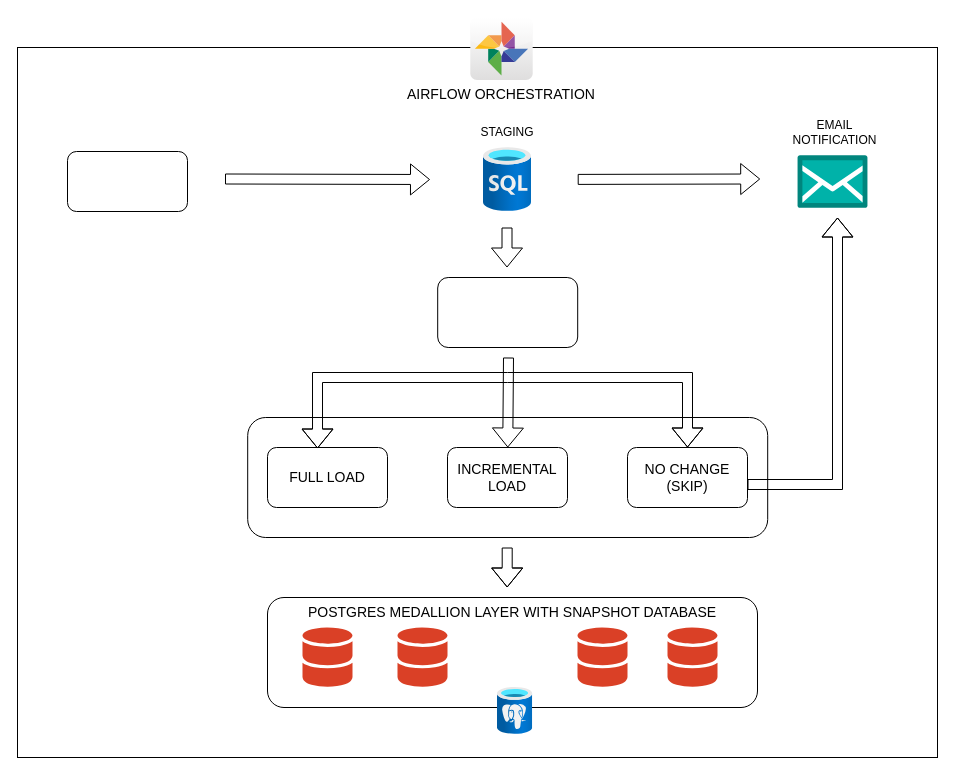
Image size: 955x775. Some labels were removed from this diagram. The box of each missing label's shape, as (x1, y1, x2, y2) in pixels:
Change Detection MD5 Hash Comparison: (437, 276, 578, 348)
K aggle: (66, 150, 188, 212)
